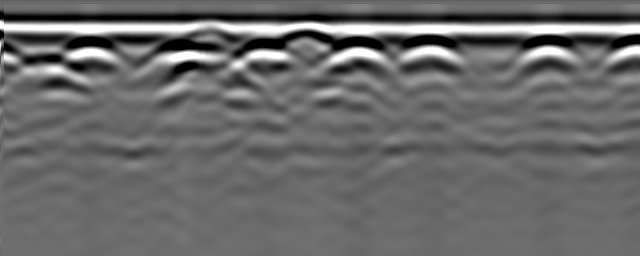pipe: (183, 23, 242, 43), (280, 26, 335, 46)
steel: (401, 35, 465, 73), (326, 38, 387, 76), (521, 37, 577, 74), (155, 40, 214, 75), (61, 36, 117, 72), (238, 39, 289, 73), (605, 39, 640, 76)
